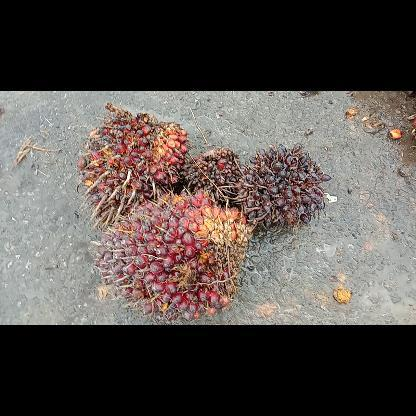TBS abnormal: (231, 140, 332, 238), (189, 145, 242, 207)
TBS masak: (92, 191, 250, 320), (74, 101, 190, 227)
